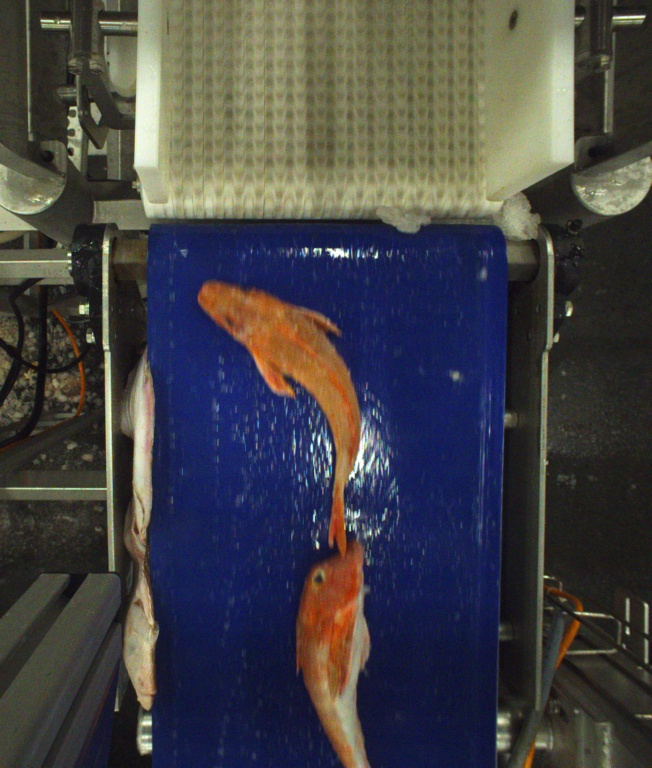GUU: (196, 278, 368, 557)
